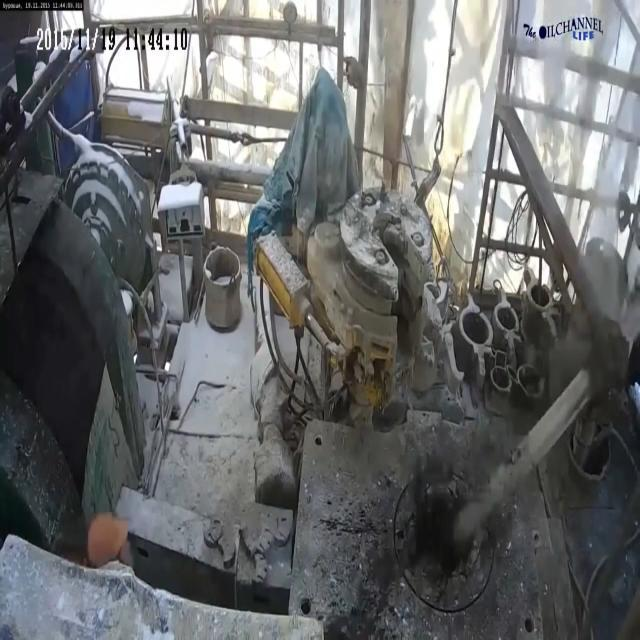spillage: (318, 460, 467, 640)
